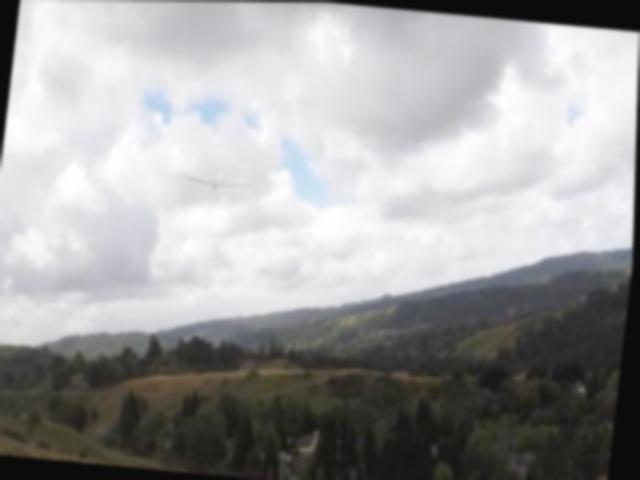iha: (181, 167, 248, 196)
